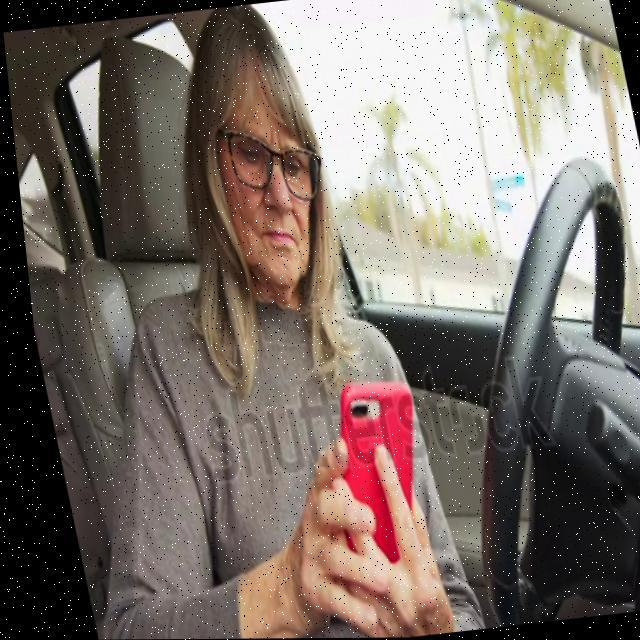PhoneCall: (308, 378, 440, 602)
